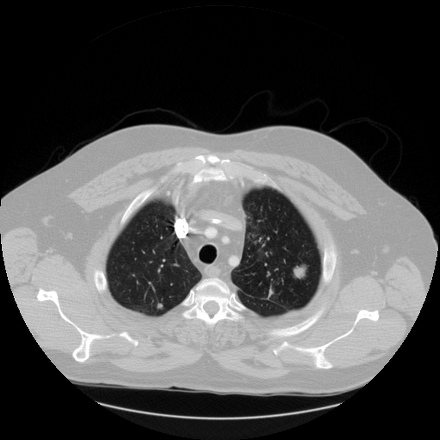nodule: (155, 302, 163, 310)
